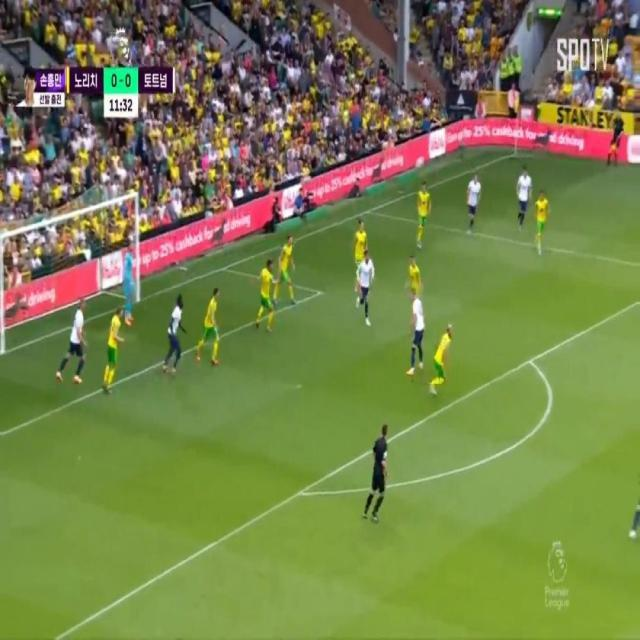goalkeeper: (121, 237, 143, 338)
player: (256, 253, 284, 335), (273, 233, 305, 303), (406, 291, 434, 367), (203, 284, 225, 362), (533, 192, 561, 247), (432, 325, 454, 392), (167, 297, 186, 372), (356, 254, 377, 318), (406, 250, 431, 301), (417, 182, 439, 235), (516, 163, 533, 223), (70, 299, 83, 377), (108, 306, 121, 384), (355, 212, 370, 273), (468, 177, 485, 227)
referee: (371, 424, 396, 520), (605, 111, 625, 166)
